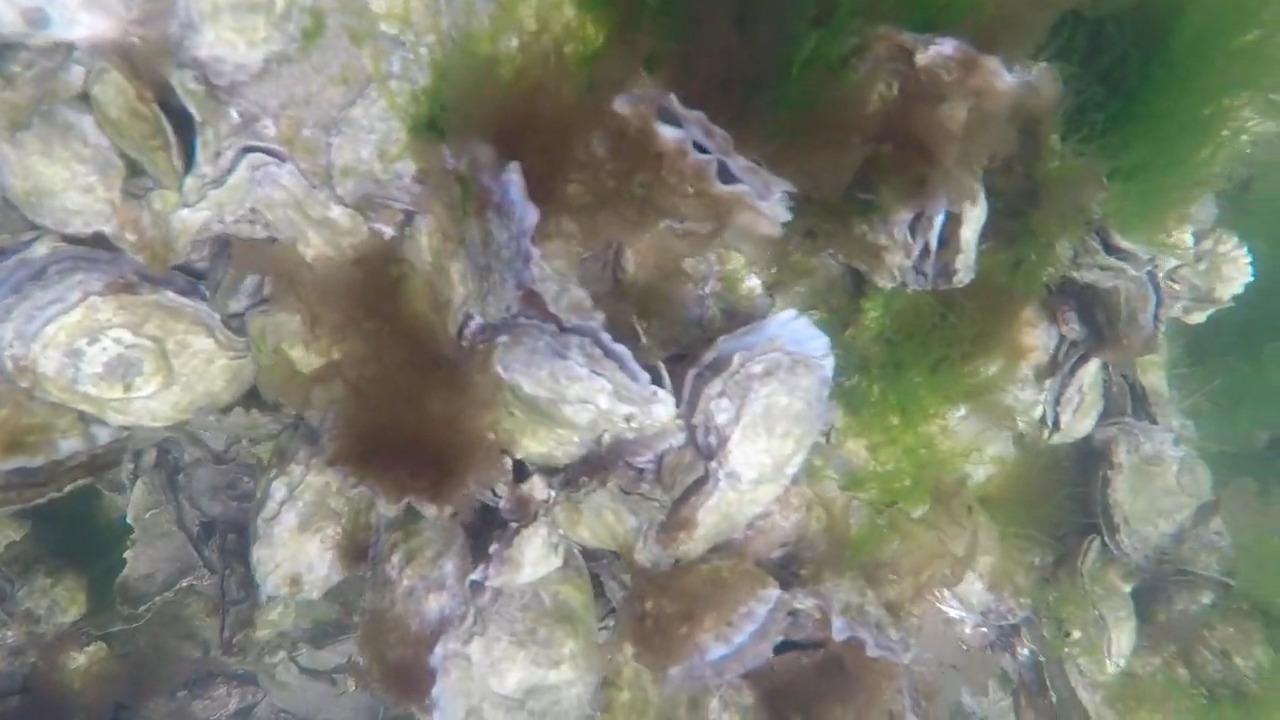Oyster: (636, 308, 839, 568), (0, 239, 253, 427), (419, 529, 610, 720), (470, 311, 678, 478), (583, 223, 766, 373), (612, 85, 792, 237), (168, 142, 367, 275), (832, 479, 1000, 629), (0, 89, 147, 251), (349, 517, 465, 713), (1077, 419, 1215, 575), (246, 454, 373, 611), (827, 175, 989, 298), (448, 152, 546, 334), (627, 572, 792, 680), (1043, 231, 1167, 370), (740, 632, 911, 719), (86, 58, 188, 200), (242, 622, 385, 720), (178, 0, 329, 89), (972, 610, 1073, 719), (0, 436, 144, 512), (1157, 226, 1258, 327), (1066, 540, 1138, 678), (549, 477, 660, 562), (196, 237, 283, 330), (480, 514, 575, 594), (8, 556, 97, 637), (1037, 347, 1109, 447), (205, 140, 309, 207), (1086, 446, 1139, 566), (169, 670, 271, 720), (1044, 521, 1109, 594), (576, 549, 634, 626), (488, 466, 554, 532), (576, 237, 634, 312), (1087, 223, 1156, 272), (1051, 299, 1084, 345), (456, 310, 489, 352)
